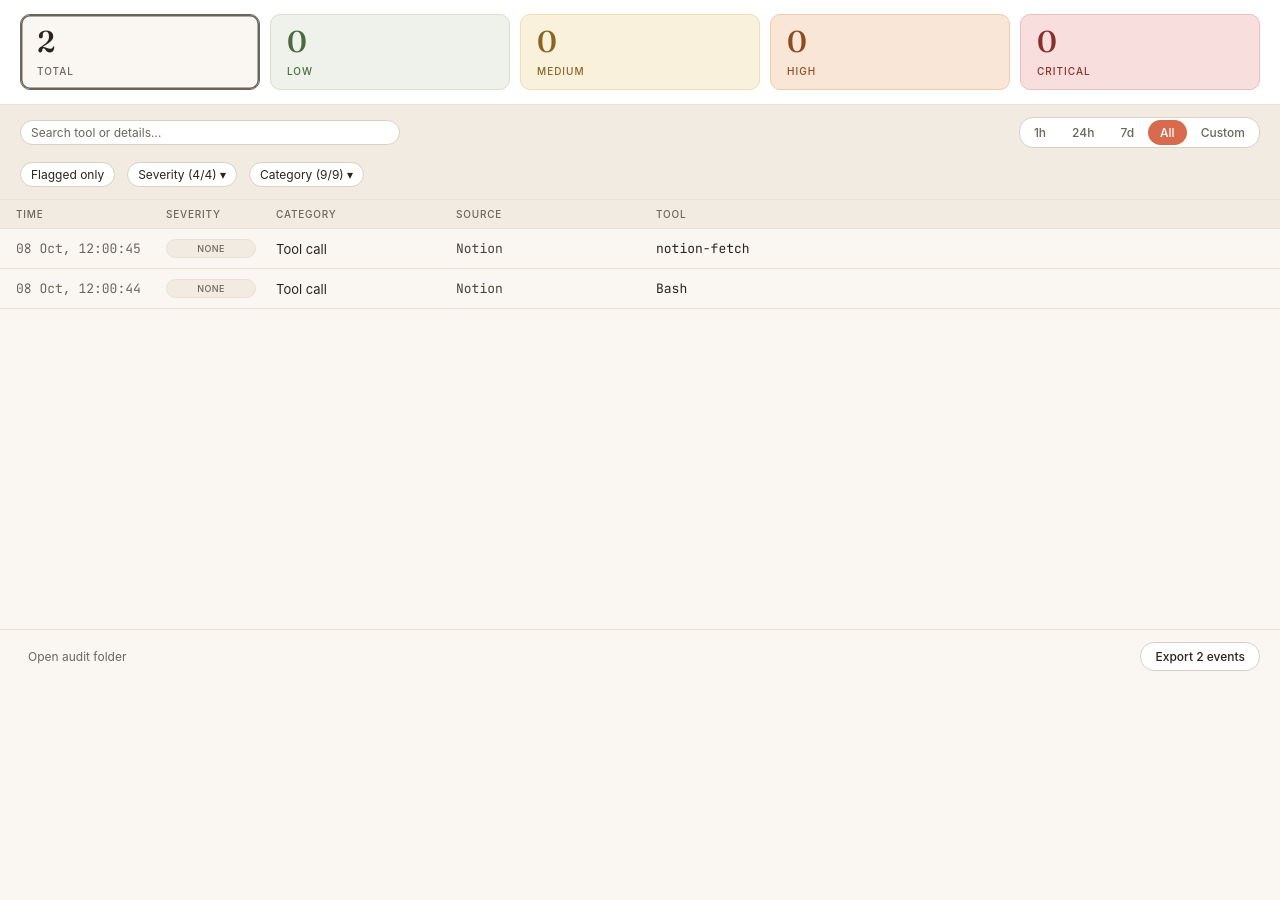
it: Detections — filter parity: search + custom range (22/07) › typing in the search box filters the rendered list of gateway rows
Check: the text "Bash" is shown, box [656,280,687,297]
In the search field labelled "Search tool or details": (210, 132) [20,120,400,145], type "notion"
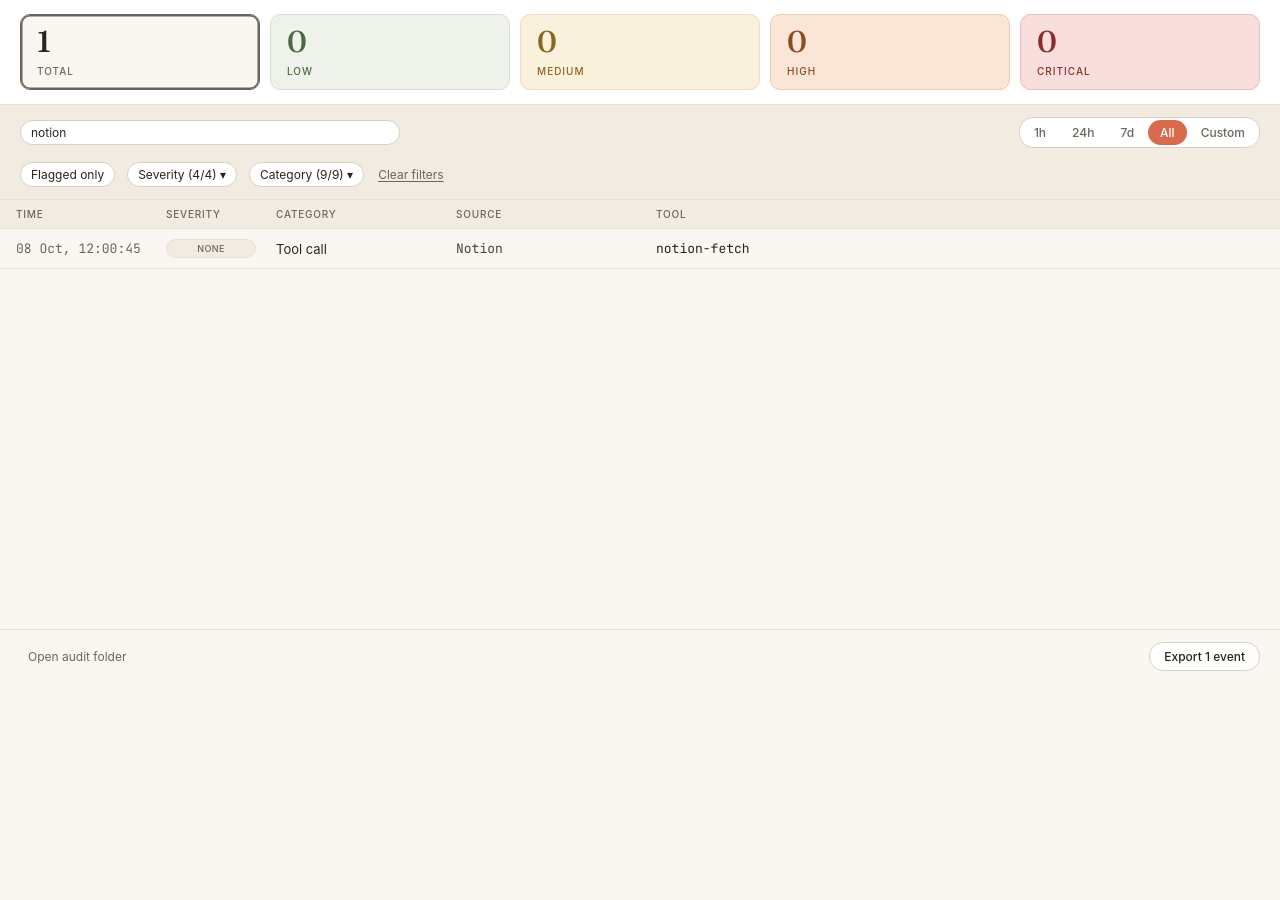
Check: the text "notion-fetch" is shown, box [656,240,750,257]
Check: the button "Bash" is gone
